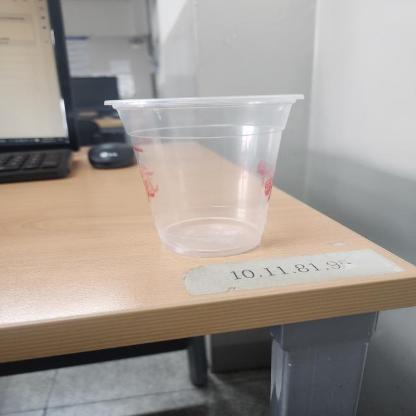Plastic Cup: (102, 93, 306, 257)
